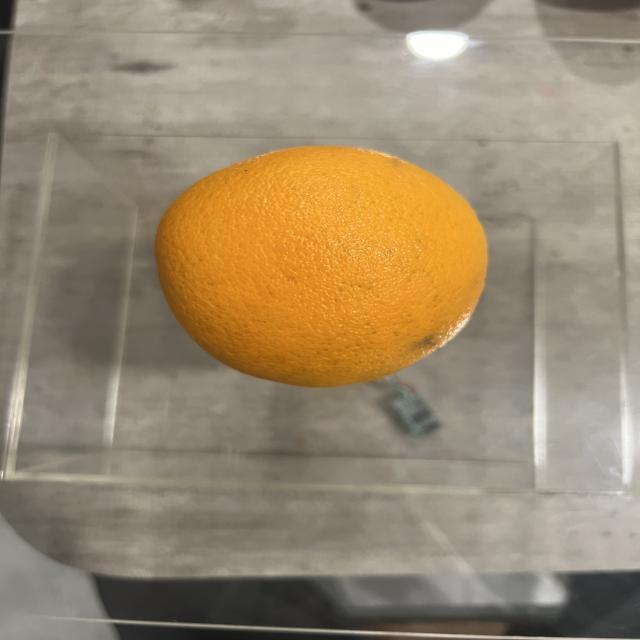navel orange: (153, 145, 490, 388)
